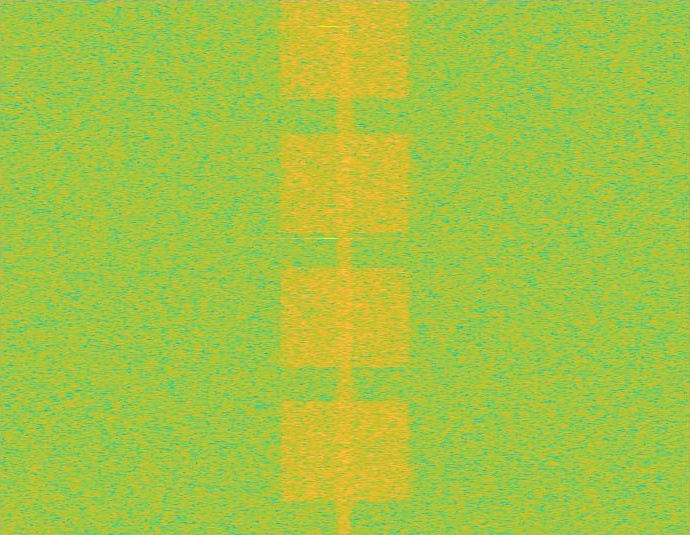5G: (276, 0, 414, 534)
DSSS: (336, 0, 354, 534)
Radar: (321, 0, 335, 534)
